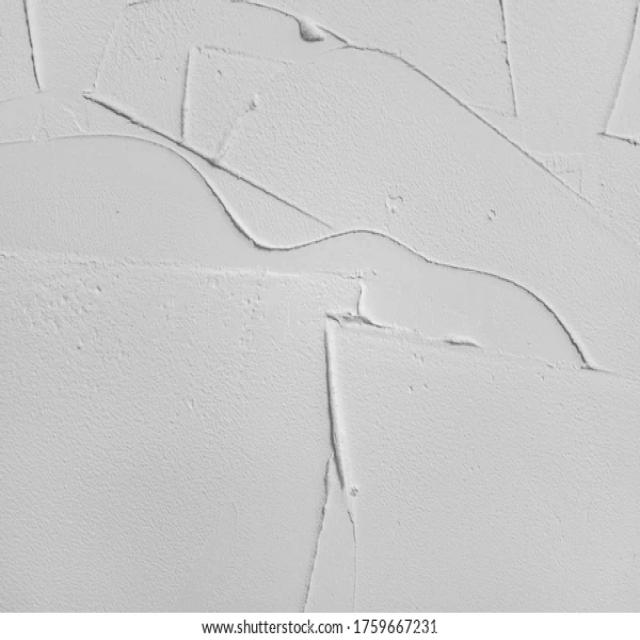trowels marks: (5, 3, 640, 606)
